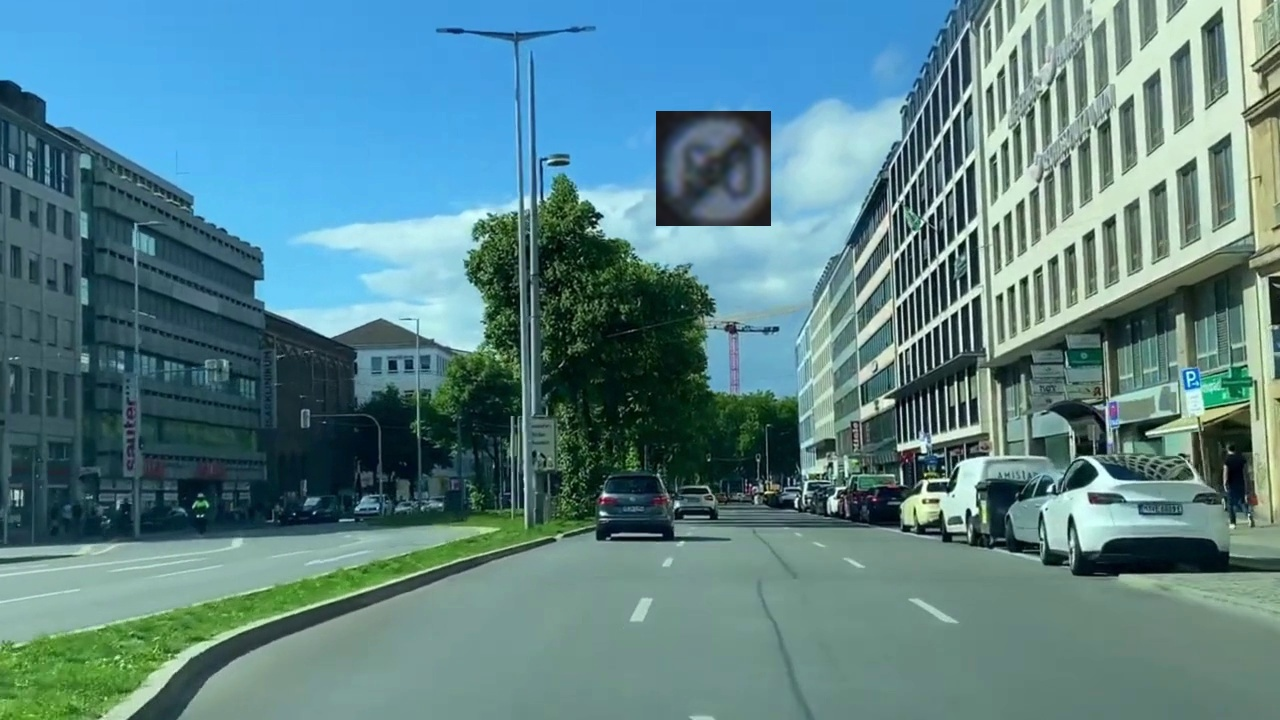End Speed 80: (656, 111, 771, 226)
